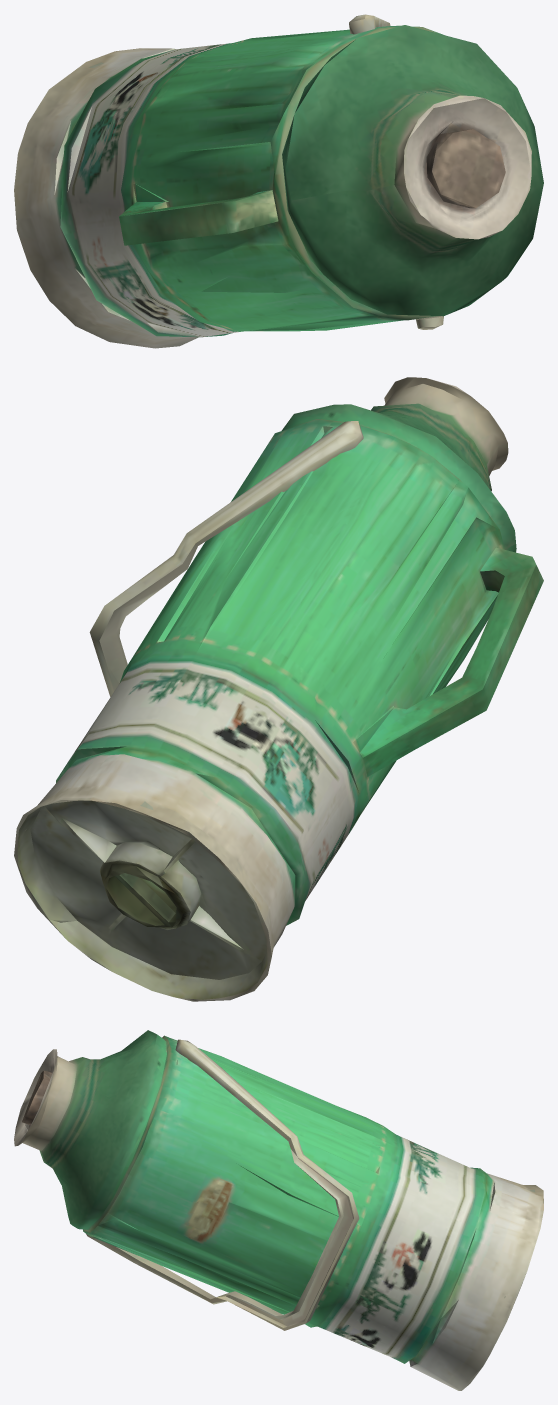
Rendered from ref_thermosbottle.fbx.
The picture shows the model from 3 angles, top to bottom: view 1: azimuth 30°, elevation 25°; view 2: azimuth 150°, elevation 25°; view 3: azimuth 270°, elevation 25°; orthographic projection. The views are drawn at different scales.
Visible parts, largest first — view 1: ref_thermosbottle; view 2: ref_thermosbottle; view 3: ref_thermosbottle.
Part boxes in pixels (x1,y1,x2,y2): ref_thermosbottle: (14,14,543,348); ref_thermosbottle: (14,377,543,1001); ref_thermosbottle: (14,1030,543,1390).
Bounding box in the file's own units: 54.9 × 70.74 × 100.
Materials: 1 (1 with a texture image).
